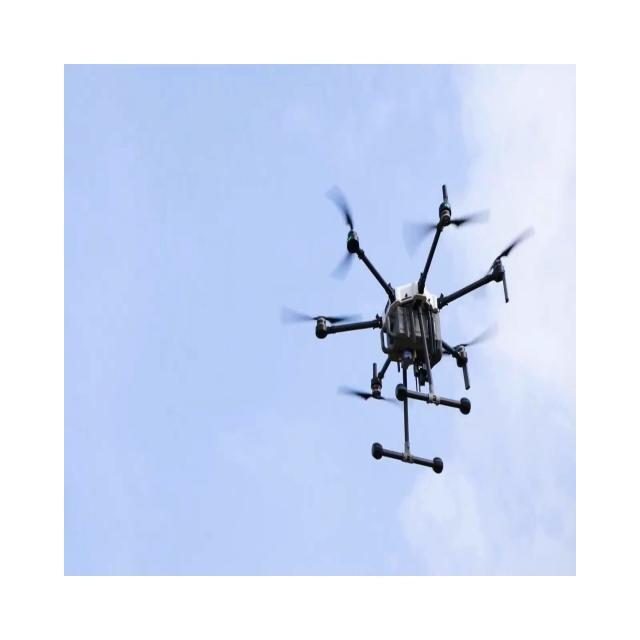drone: (280, 181, 535, 474)
